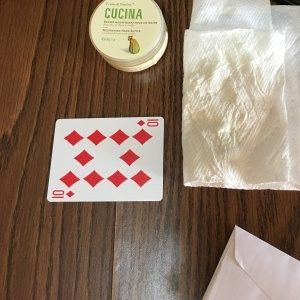card: (43, 116, 167, 203)
